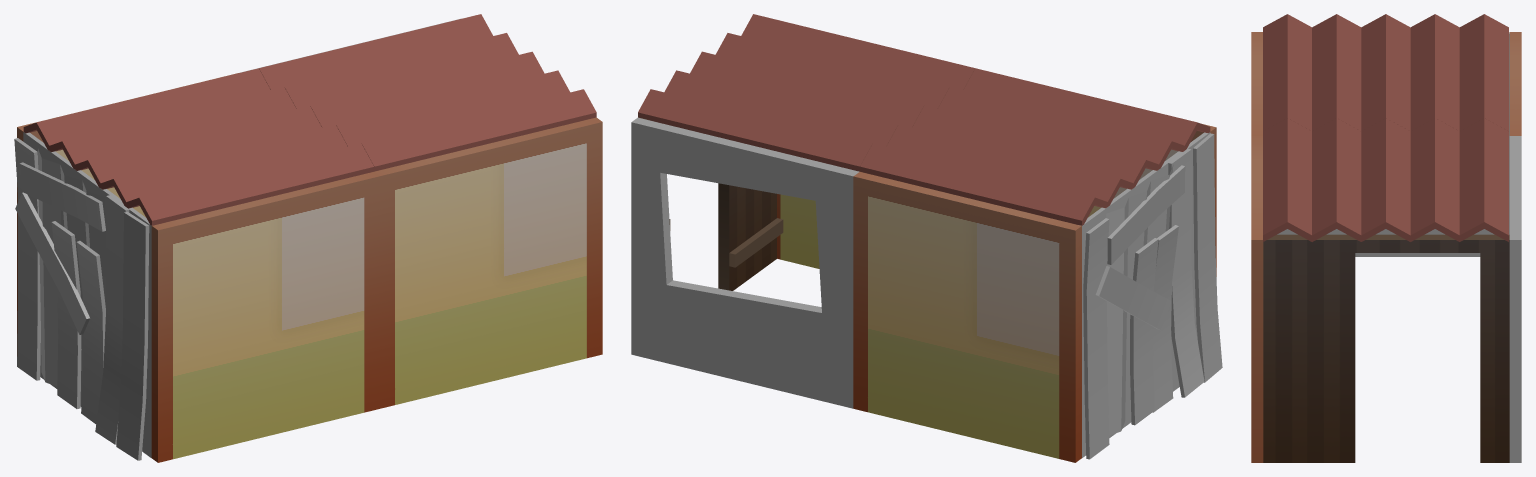
The model's file is Environment_OpenHouse_04.fbx.
The picture shows the model from 3 angles, left to right: view 1: azimuth 30°, elevation 25°; view 2: azimuth 150°, elevation 25°; view 3: azimuth 270°, elevation 25°; orthographic projection. The views are drawn at different scales.
Parts seen in each view (by area): view 1: Environment_Wall_011, Environment_Wall_010, Environment_WoodenShackRoof_02, Environment_RifledRoofMiddle_03, Environment_RifledRoofMiddle_02, Environment_Wall_09; view 2: Environment_Wall_09, pCube2, Environment_WoodenShackRoof_02, Environment_RifledRoofMiddle_03, Environment_RifledRoofMiddle_02, Environment_DoorFrame_02_Mesh1, Environment_Wall_010, Environment_Wall_011; view 3: Environment_DoorFrame_02_Mesh1, Environment_RifledRoofMiddle_02, Environment_RifledRoofMiddle_03, pCube2, Environment_Wall_010, Environment_Wall_09, Environment_Wall_011, Environment_WoodenShackRoof_02.
Part boxes in pixels (x1,y1,x2,y2): Environment_Wall_011: (151,172,380,462); Environment_Wall_010: (374,117,602,408); Environment_WoodenShackRoof_02: (14,132,151,460); Environment_RifledRoofMiddle_03: (23,68,374,225); Environment_RifledRoofMiddle_02: (259,14,596,171); Environment_Wall_09: (17,73,238,356); Environment_Wall_09: (853,172,1081,462); pCube2: (631,117,859,408); Environment_WoodenShackRoof_02: (1082,132,1222,459); Environment_RifledRoofMiddle_03: (860,68,1210,225); Environment_RifledRoofMiddle_02: (638,14,975,171); Environment_DoorFrame_02_Mesh1: (638,117,783,290); Environment_Wall_010: (777,194,819,268); Environment_Wall_011: (1088,124,1216,276); Environment_DoorFrame_02_Mesh1: (1263,234,1509,462); Environment_RifledRoofMiddle_02: (1263,118,1508,241); Environment_RifledRoofMiddle_03: (1263,14,1508,131); pCube2: (1509,136,1521,462); Environment_Wall_010: (1251,136,1263,462); Environment_Wall_09: (1509,32,1521,135); Environment_Wall_011: (1251,32,1262,135); Environment_WoodenShackRoof_02: (1277,32,1509,256).
Size of the model in its own units: 415 by 217 by 220.
